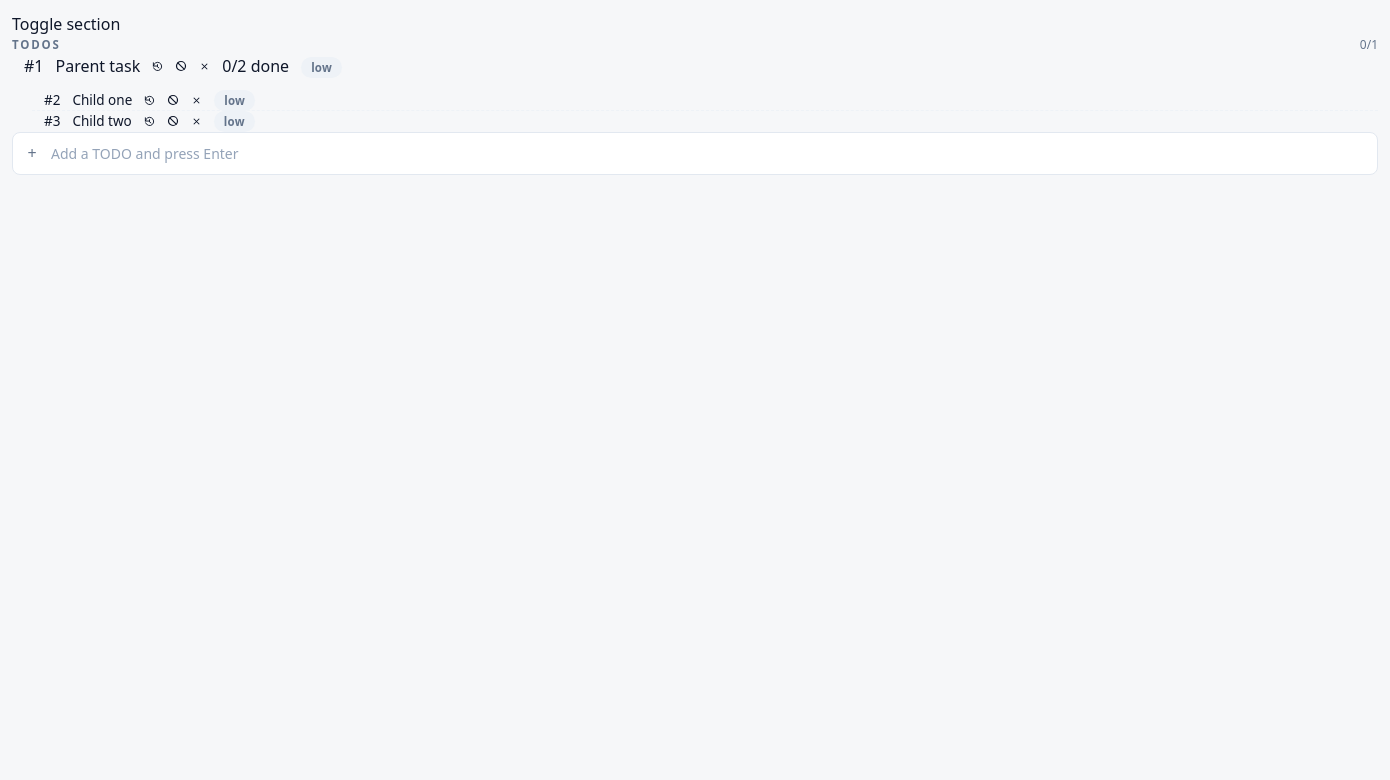
Test: TodosSection undoable delete › hides a single subtask with its own toast copy and leaves its parent and sibling
Step 1. Click the 1st button named "Remove from day" → (197, 100), box left=191, top=95, right=202, bottom=106
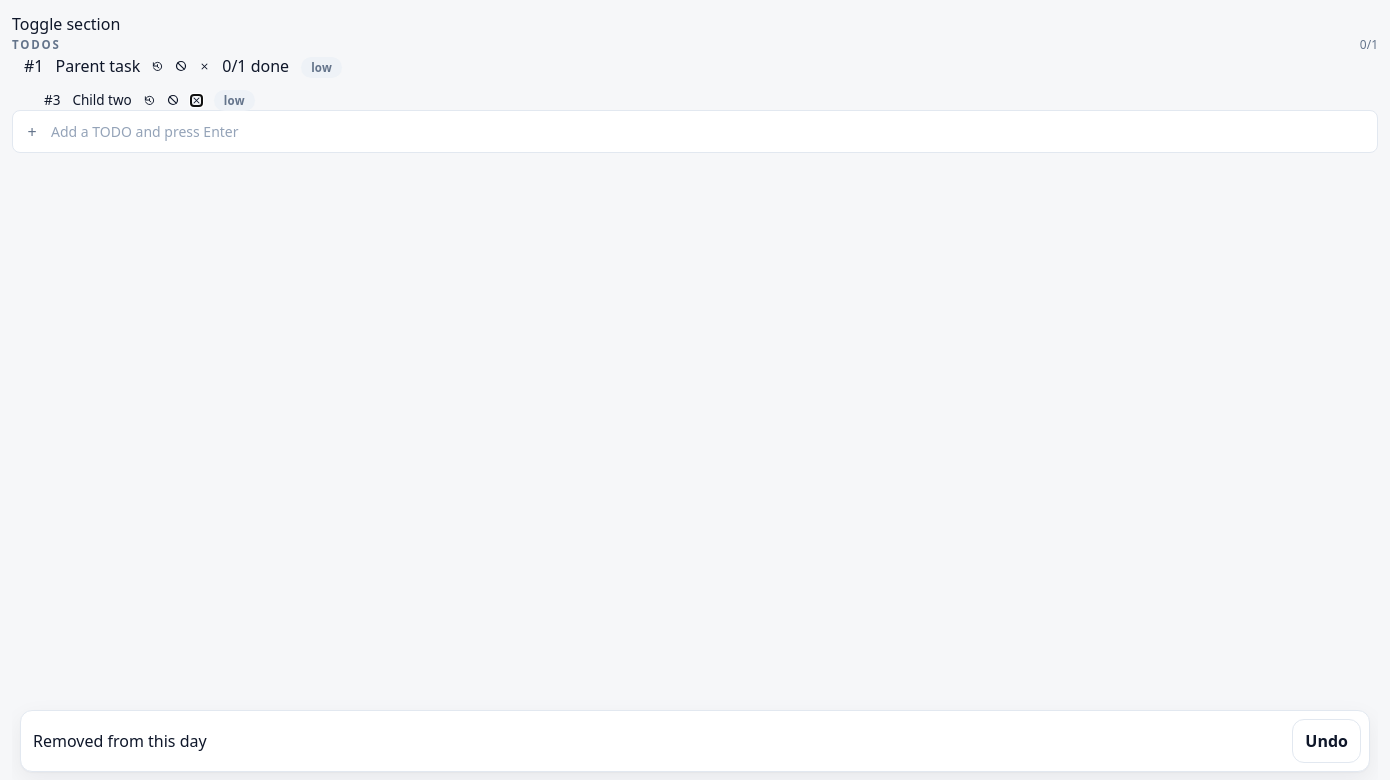
Expected: the button "Parent task" is shown, left=56, top=54, right=140, bottom=78
Expected: the button "Child one" is gone
Expected: the message shows "Removed from this day", left=33, top=730, right=207, bottom=752
